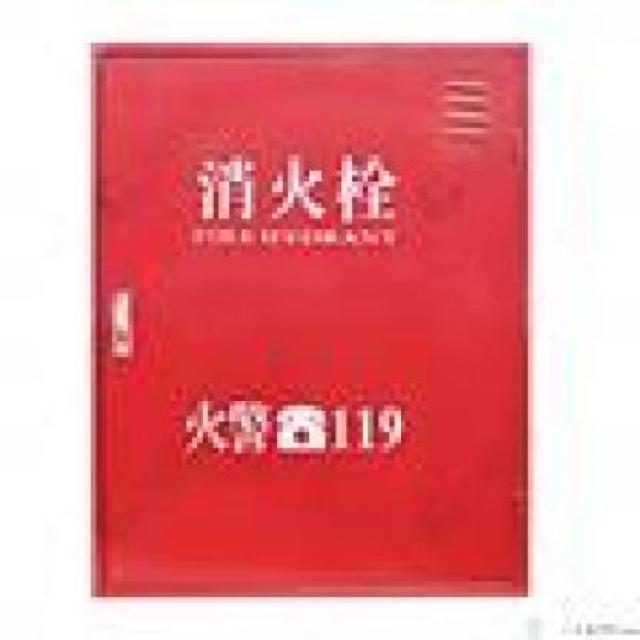firehydrant: (84, 36, 540, 608)
